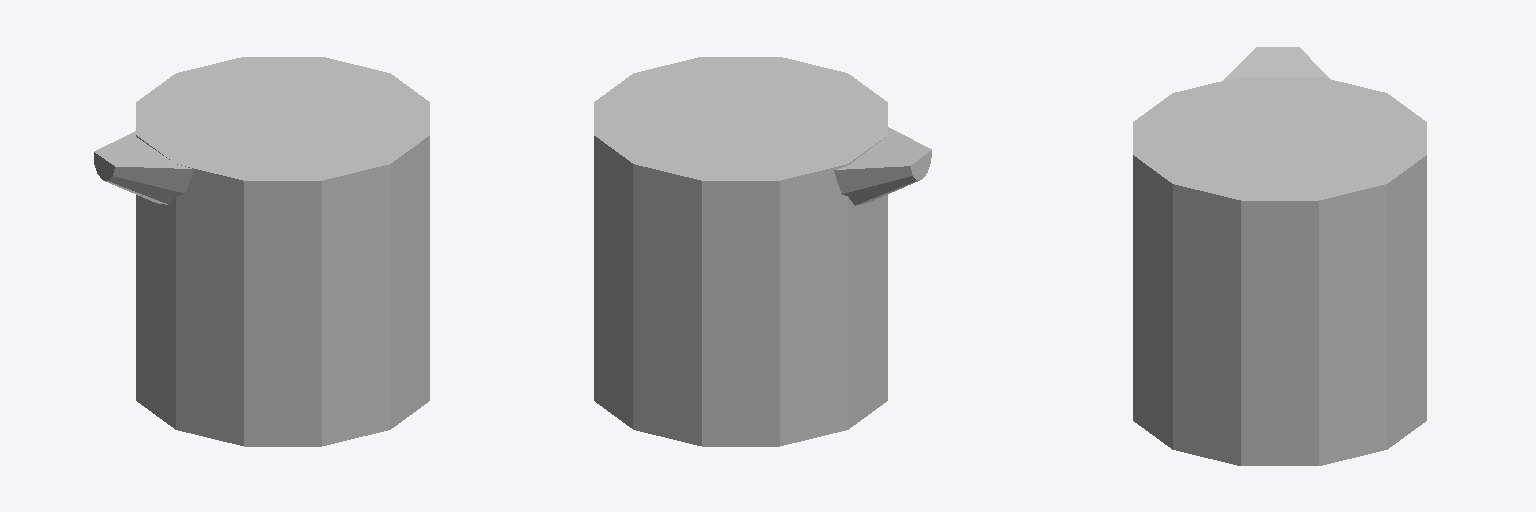
The model's file is Potion Bottle #5.obj.
3 views of the same model, side by side, from view 1: azimuth 30°, elevation 25°; view 2: azimuth 150°, elevation 25°; view 3: azimuth 270°, elevation 25° (orthographic).
Visible parts, largest first — view 1: Body; view 2: Body; view 3: Body.
Part boxes in pixels (bbox=[...]): Body: bbox=[94, 57, 429, 446]; Body: bbox=[594, 57, 931, 446]; Body: bbox=[1133, 47, 1426, 465].
Bounding box in the file's own units: 1.21 × 1.02 × 1.